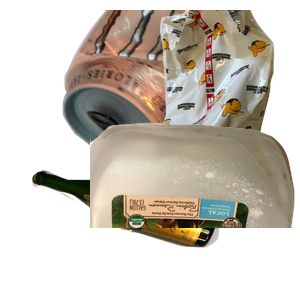glass: (29, 167, 241, 300)
metal: (60, 10, 300, 175)
plastic: (90, 120, 300, 300)
trash: (127, 10, 300, 190)
